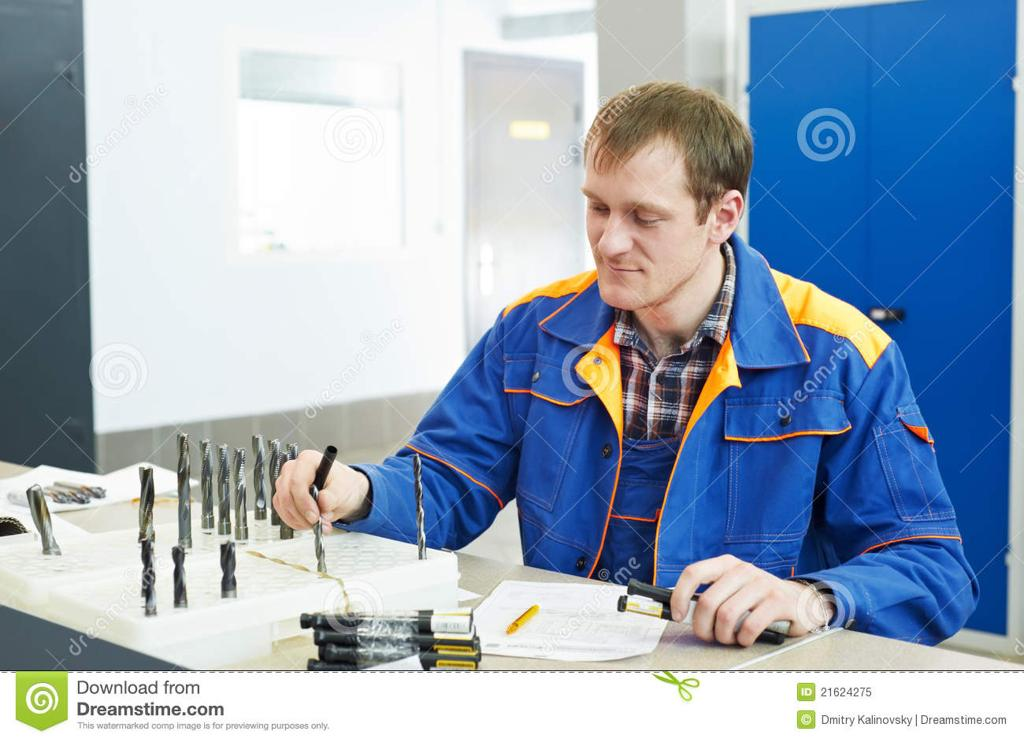face: (584, 134, 698, 298)
